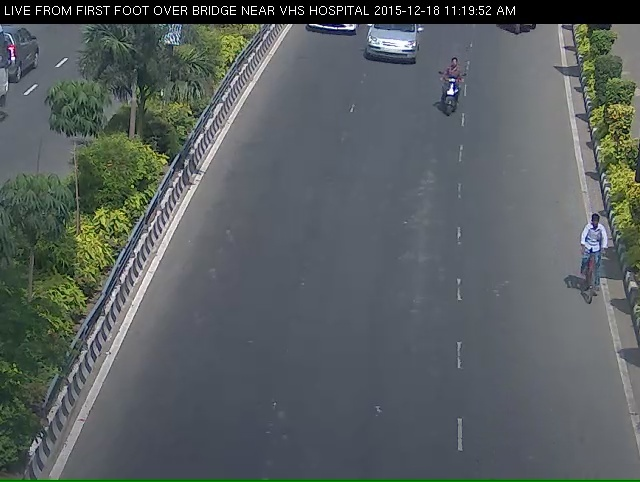Car: (361, 19, 417, 75)
Person: (435, 59, 470, 123)
